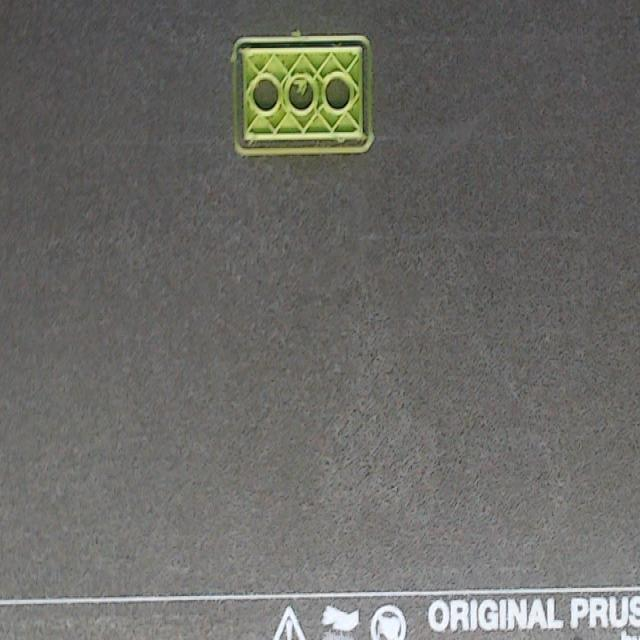mistake: (289, 75, 312, 105), (290, 28, 302, 36)
